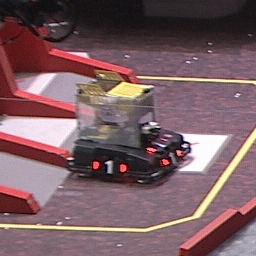Red: (91, 159, 127, 176), (159, 147, 183, 166), (145, 137, 169, 153)
Robot: (59, 71, 193, 186)
